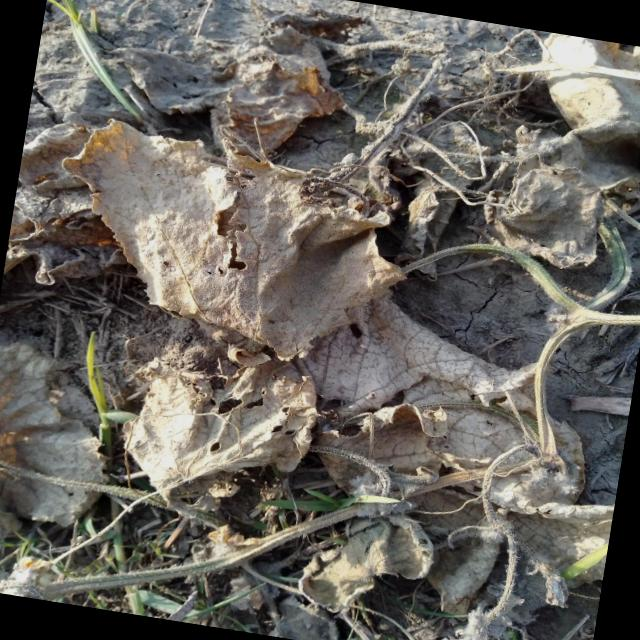cucumber_bacterial: (51, 133, 392, 364), (108, 338, 322, 518), (482, 140, 620, 274), (290, 500, 430, 630), (479, 480, 613, 610)
